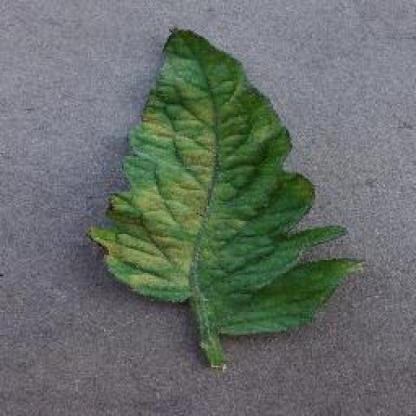Tomato_Leaf_Mold: (86, 28, 365, 330)
